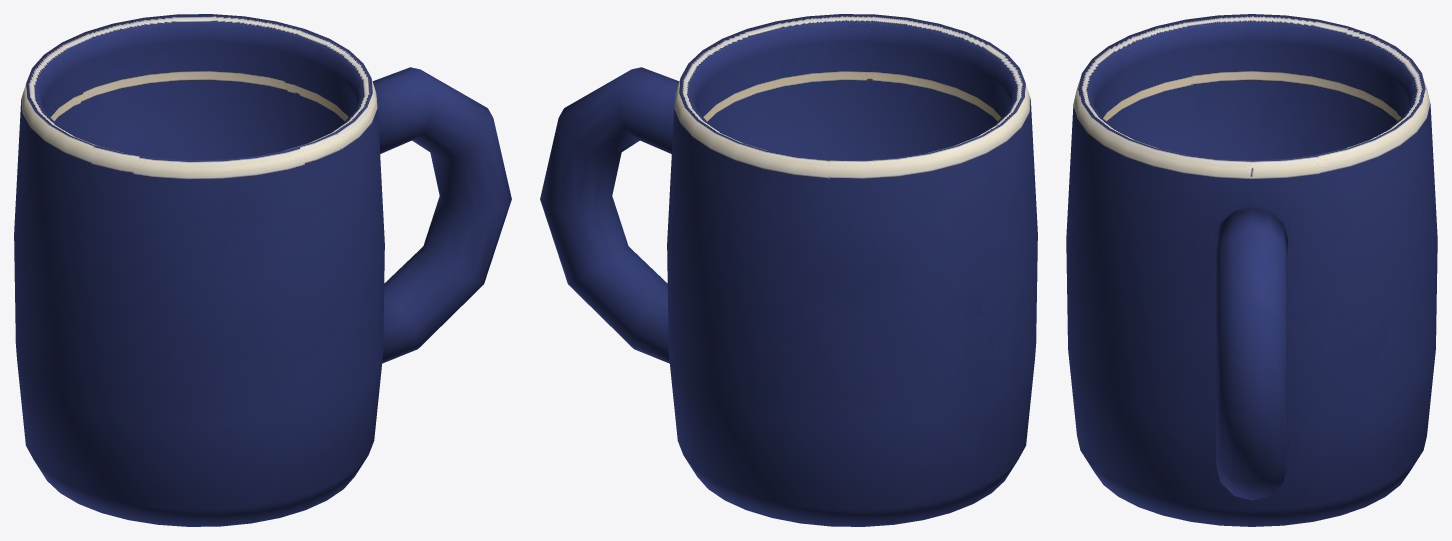
Rendered from mug_milk_b1.glb.
The picture shows the model from 3 angles, left to right: view 1: azimuth 30°, elevation 25°; view 2: azimuth 150°, elevation 25°; view 3: azimuth 270°, elevation 25°; orthographic projection.
Parts seen in each view (by area): view 1: prop_mug_milk_b1_felt; view 2: prop_mug_milk_b1_felt; view 3: prop_mug_milk_b1_felt.
Part boxes in pixels (x1,y1,x2,y2): prop_mug_milk_b1_felt: (14,14,511,526); prop_mug_milk_b1_felt: (540,14,1037,526); prop_mug_milk_b1_felt: (1066,14,1437,526).
Size of the model in its own units: 0.1907 by 0.1447 by 0.131.
1 material, 1 textured.
